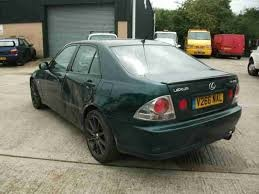Dent: (58, 76, 79, 110)
